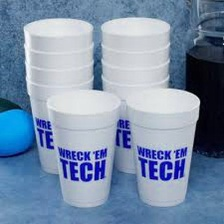paper_cup: (19, 14, 98, 178), (98, 12, 175, 177), (122, 84, 203, 210), (44, 85, 123, 211)
